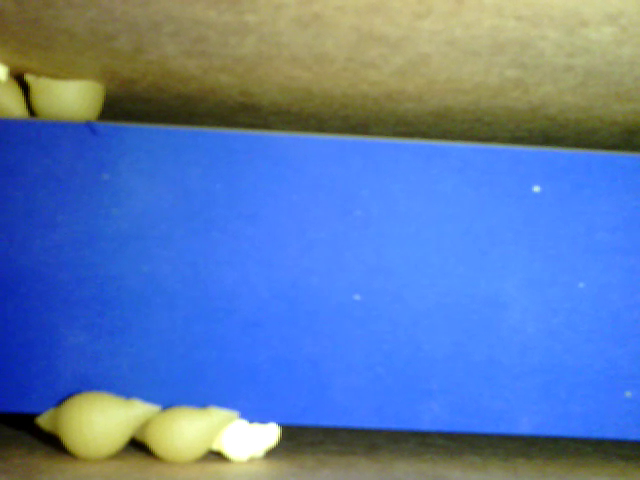shell: (35, 395, 163, 461), (131, 404, 242, 464), (27, 75, 107, 126)
